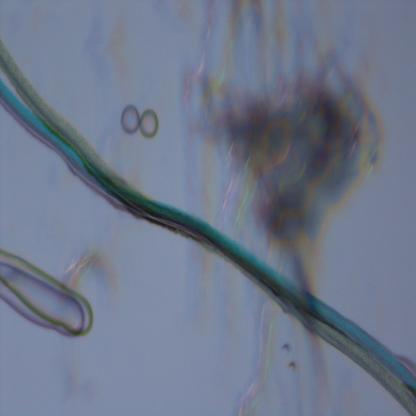Air bubble: (0, 248, 97, 343), (120, 103, 162, 139)
Background material: (184, 38, 388, 278), (221, 1, 289, 44), (64, 246, 118, 286), (282, 340, 302, 377)
Microfibre: (0, 38, 416, 411)
